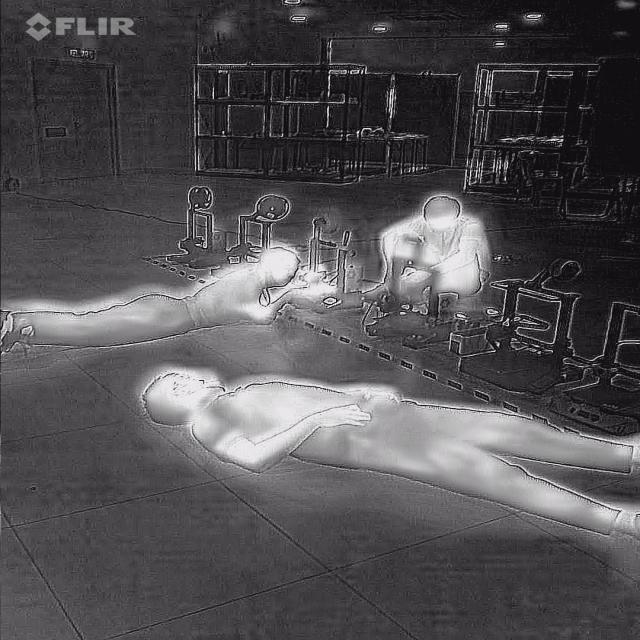Victim: (130, 362, 638, 543), (0, 240, 311, 359), (369, 189, 493, 311)
